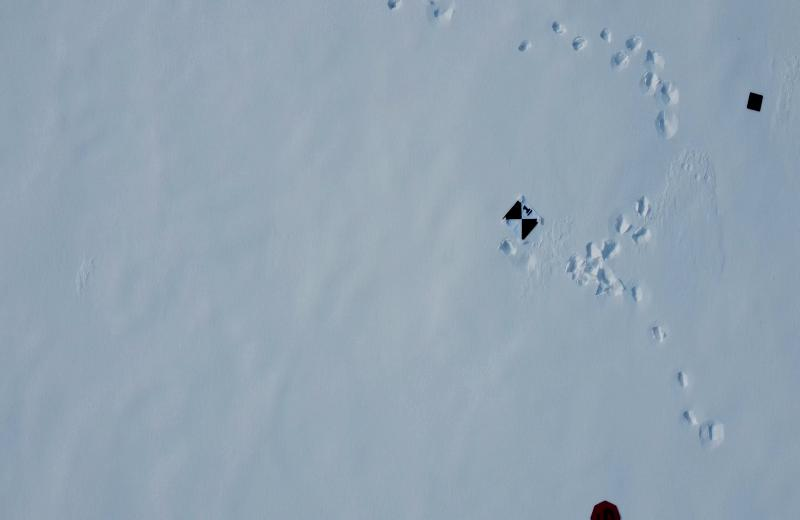Square: (742, 88, 764, 114)
